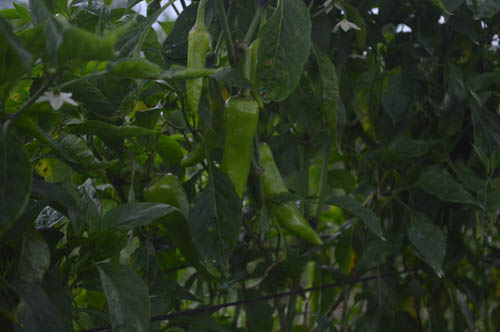ChiliPepper: (148, 175, 220, 270), (256, 146, 322, 241), (220, 98, 261, 196), (179, 28, 215, 104)
